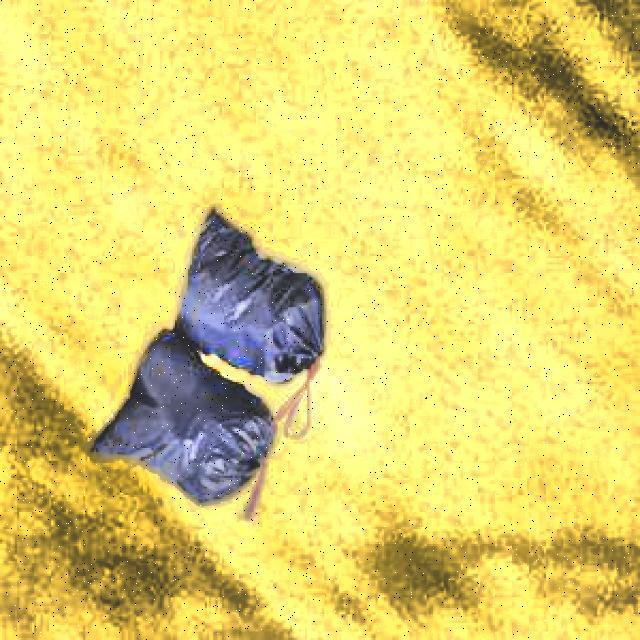Trashbag: (85, 339, 272, 504), (174, 204, 334, 386)
